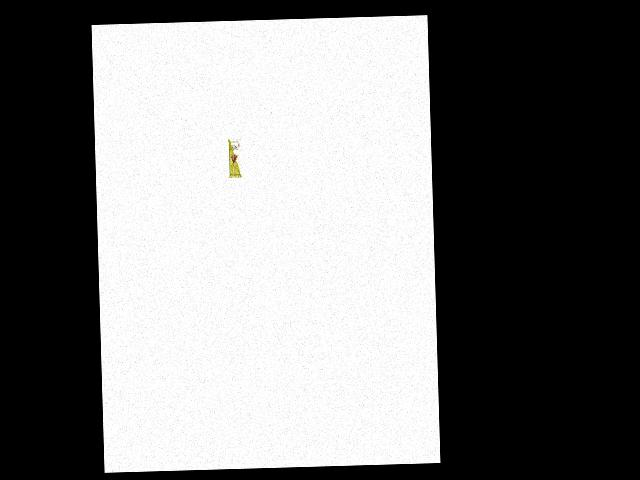chocolate: (224, 136, 244, 180)
